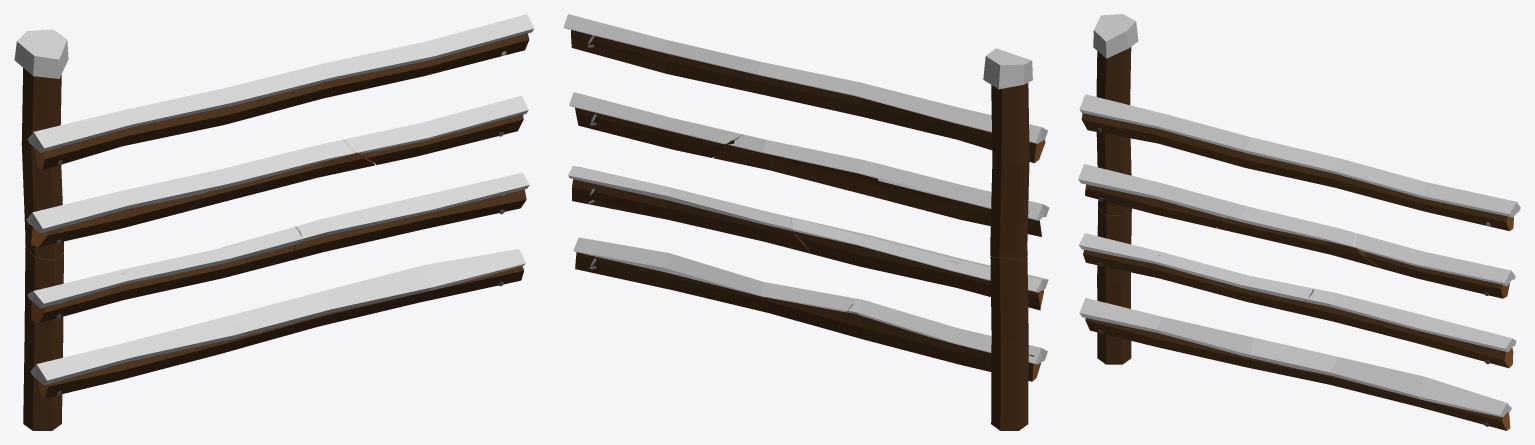
The model's file is wooden_fence_destructible.fbx.
3 renders of one model, left to right at view 1: azimuth 30°, elevation 25°; view 2: azimuth 150°, elevation 25°; view 3: azimuth 330°, elevation 25°, orthographic. The views are drawn at different scales.
Parts seen in each view (by area): view 1: fence2_LOD0, fence7_LOD0, fence3_LOD0, fence8_LOD0, fence5_LOD0, fence_pilar1_LOD0, fence6_LOD0, fence9_LOD0, fence10_LOD0, fence_pilar2_LOD0; view 2: fence2_LOD0, fence7_LOD0, fence_pilar1_LOD0, fence8_LOD0, fence3_LOD0, fence_pilar2_LOD0, fence5_LOD0, fence10_LOD0, fence9_LOD0, fence6_LOD0; view 3: fence2_LOD0, fence7_LOD0, fence8_LOD0, fence3_LOD0, fence5_LOD0, fence_pilar1_LOD0, fence6_LOD0, fence9_LOD0, fence10_LOD0, fence_pilar2_LOD0.
Boxes of the visible parts, x1,y1,x2,y2 form: fence2_LOD0: (27,14,534,170); fence7_LOD0: (231,249,525,346); fence3_LOD0: (27,227,302,322); fence8_LOD0: (277,172,529,263); fence5_LOD0: (30,315,245,398); fence_pilar1_LOD0: (14,29,68,259); fence6_LOD0: (26,172,207,246); fence9_LOD0: (344,95,528,164); fence10_LOD0: (189,139,374,210); fence_pilar2_LOD0: (23,246,63,430); fence2_LOD0: (563,14,1047,163); fence7_LOD0: (573,237,858,332); fence_pilar1_LOD0: (983,48,1032,259); fence8_LOD0: (568,166,812,254); fence3_LOD0: (791,218,1048,310); fence_pilar2_LOD0: (990,256,1028,430); fence5_LOD0: (838,299,1047,381); fence10_LOD0: (713,135,891,201); fence9_LOD0: (569,92,743,157); fence6_LOD0: (874,163,1049,236); fence2_LOD0: (1079,94,1520,230); fence7_LOD0: (1251,337,1511,430); fence8_LOD0: (1293,288,1516,368); fence3_LOD0: (1079,233,1312,312); fence5_LOD0: (1079,298,1265,371); fence_pilar1_LOD0: (1093,14,1138,215); fence6_LOD0: (1078,164,1234,228); fence9_LOD0: (1354,233,1515,298); fence10_LOD0: (1217,203,1379,267); fence_pilar2_LOD0: (1097,207,1131,364).
Size of what is drawn, in the model's own units: 254 by 189 by 32.92.
